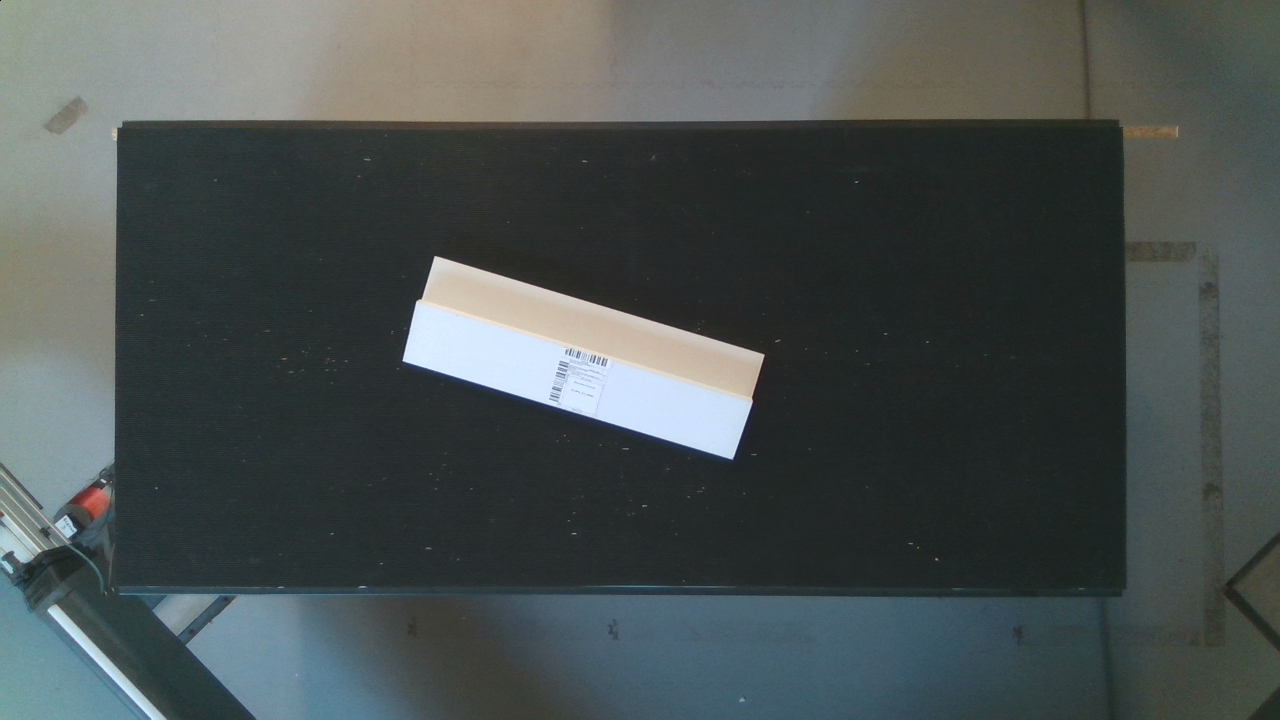barcode: (543, 336, 615, 420)
part1: (411, 235, 798, 378), (374, 295, 771, 428)
